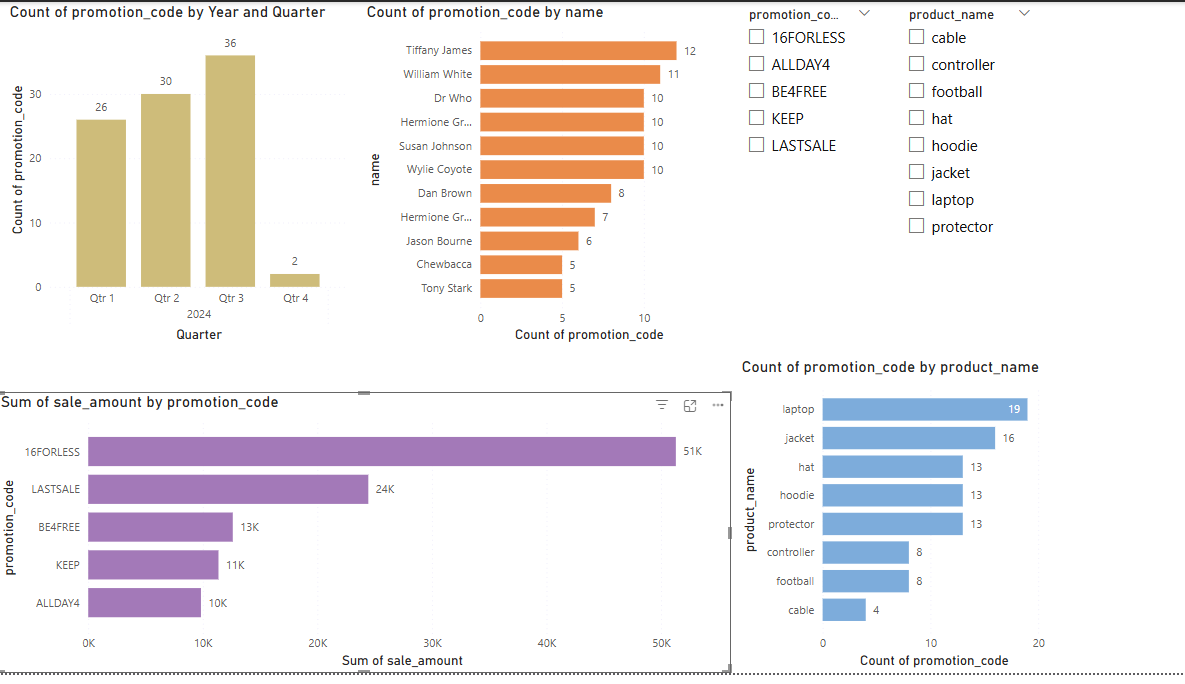

The page's visual inventory and layout, read from the dashboard file:
{"tool":"powerbi","page":{"name":"P6 and Promotion Codes","canvas":[1280,720],"ordinal":0},"visuals":[{"type":"columnChart","fields":{"Category":["sale.Year_dt.Variation.Date Hierarchy.Year","sale.Quarter_dt.Variation.Date Hierarchy.Quarter","sale.month_name_dt.Variation.Date Hierarchy.Month","sale.month_name_dt.Variation.Date Hierarchy.Day"],"Y":["CountNonNull(sale.promotion_code)"]},"box":[9.7,0,372.5,369.6],"z":0},{"type":"clusteredBarChart","fields":{"Category":["sale.promotion_code"],"Y":["Sum(sale.sale_amount)"]},"box":[0,418.4,788.3,301.1],"z":1000},{"type":"clusteredBarChart","fields":{"Category":["customer.name"],"Y":["CountNonNull(sale.promotion_code)"]},"box":[393,0,373,370],"z":2000},{"type":"clusteredBarChart","fields":{"Category":["product.product_name"],"Y":["CountNonNull(sale.promotion_code)"]},"box":[794.7,381.3,344.3,338.5],"z":3000},{"type":"slicer","fields":{"Values":["sale.promotion_code"]},"box":[794.7,0,155.6,176],"z":4000},{"type":"slicer","fields":{"Values":["product.product_name"]},"box":[966.5,0,155.6,292.1],"z":5000}]}

Visuals, with their boxes in screenshot pixels (x1, y1, x2, y2), scaled from the page's 1280x720 canvas onto the 1185x684 screenshot:
columnChart - sale.Year_dt.Variation.Date Hierarchy.Year x sale.Quarter_dt.Variation.Date Hierarchy.Quarter: <box>9,0,354,351</box>
clusteredBarChart - sale.promotion_code x Sum(sale.sale_amount): <box>0,397,730,683</box>
clusteredBarChart - customer.name x CountNonNull(sale.promotion_code): <box>364,0,709,352</box>
clusteredBarChart - product.product_name x CountNonNull(sale.promotion_code): <box>736,362,1054,683</box>
slicer - sale.promotion_code: <box>736,0,880,167</box>
slicer - product.product_name: <box>895,0,1039,277</box>
